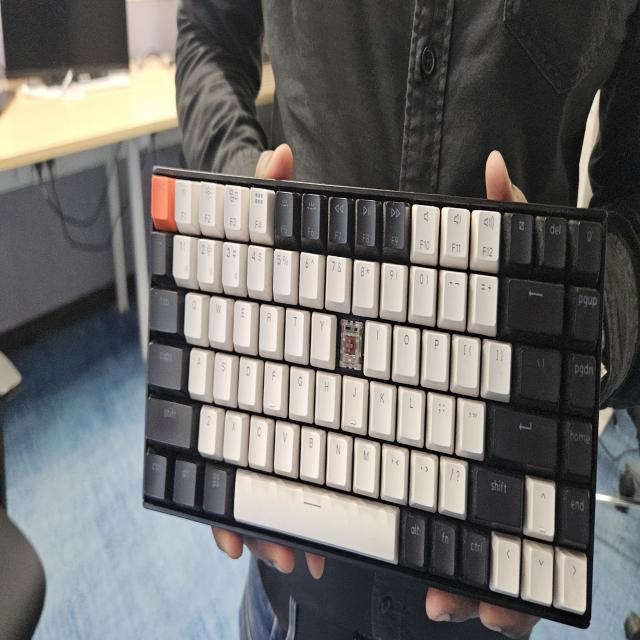C: (341, 319, 359, 371)
